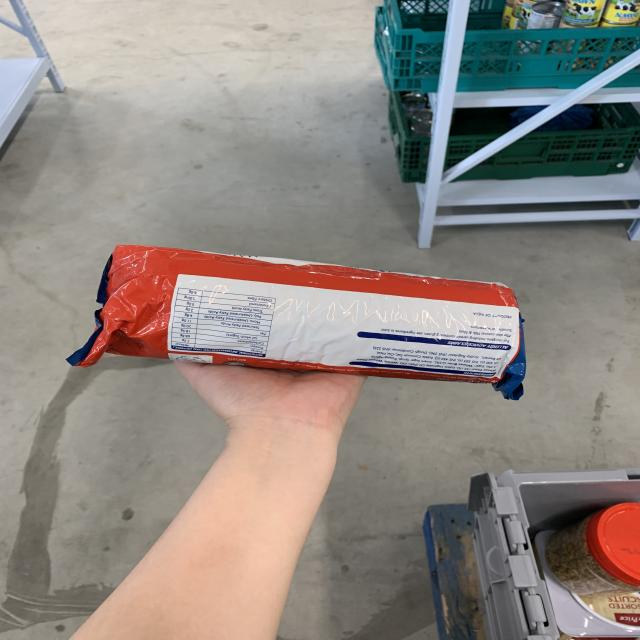object_name: (96, 248, 520, 386)
